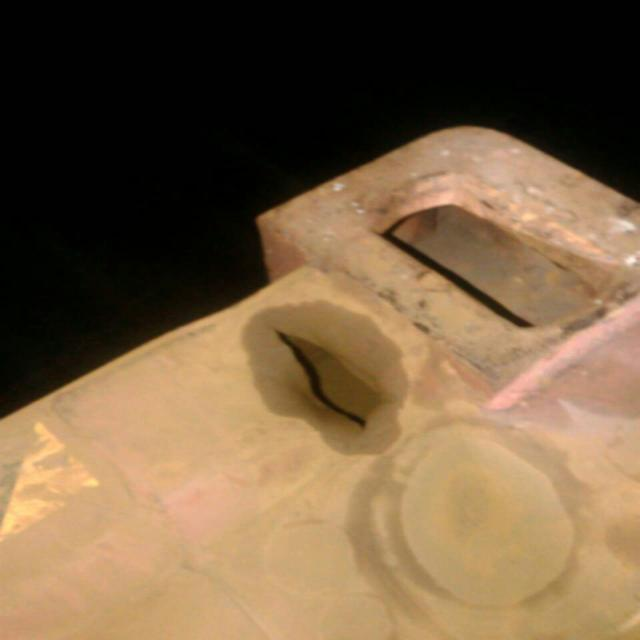hole: (240, 316, 398, 446)
